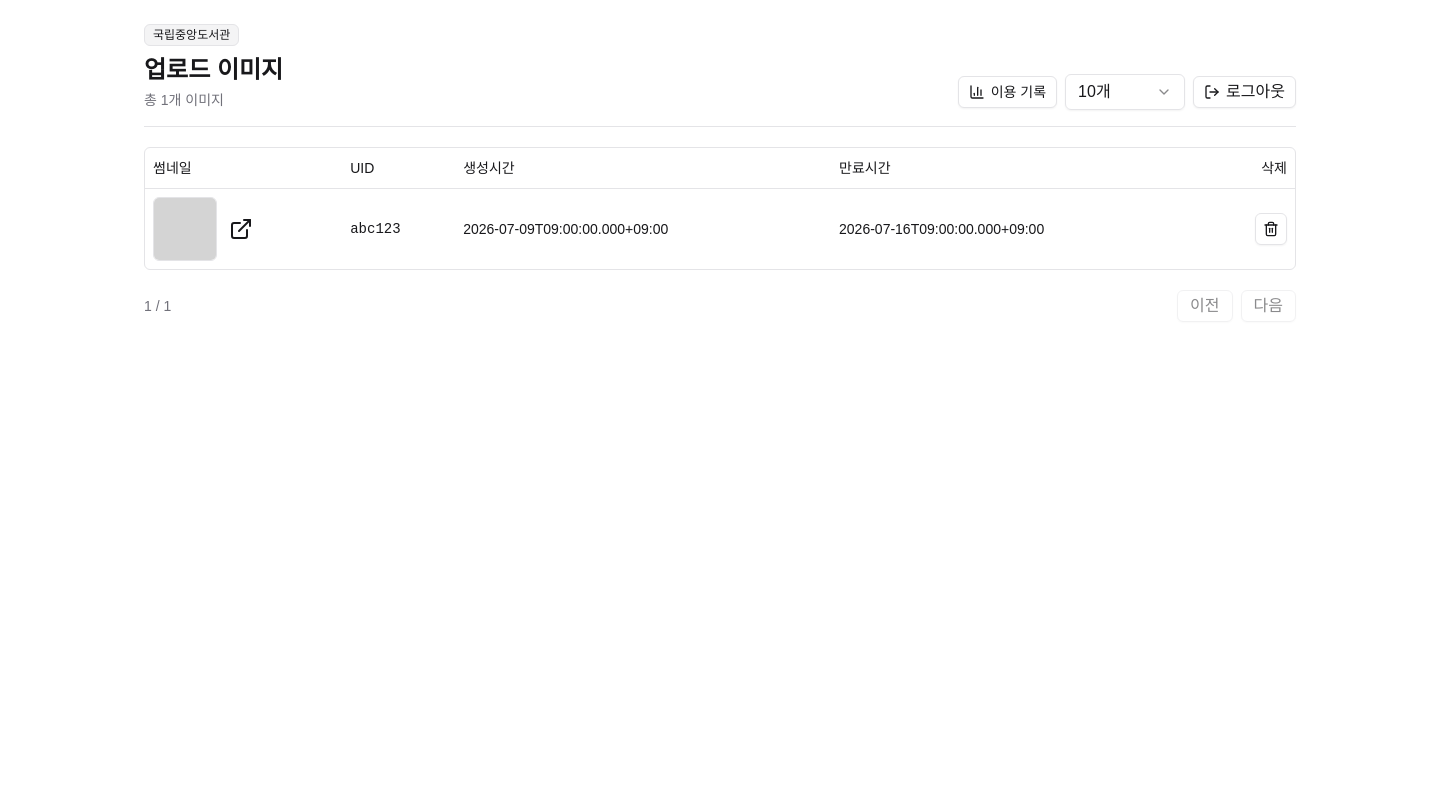
Scenario: ImageList › renders thumbnails uid times and page size control
The width and height of the screenshot is (1440, 810).
Check: the heading "업로드 이미지" is shown, box [144, 54, 283, 86]
Check: the text "총 1개 이미지" is shown, box [144, 92, 224, 108]
Click the button named "abc123 삭제". click: (1271, 228)
box: [1255, 212, 1287, 244]
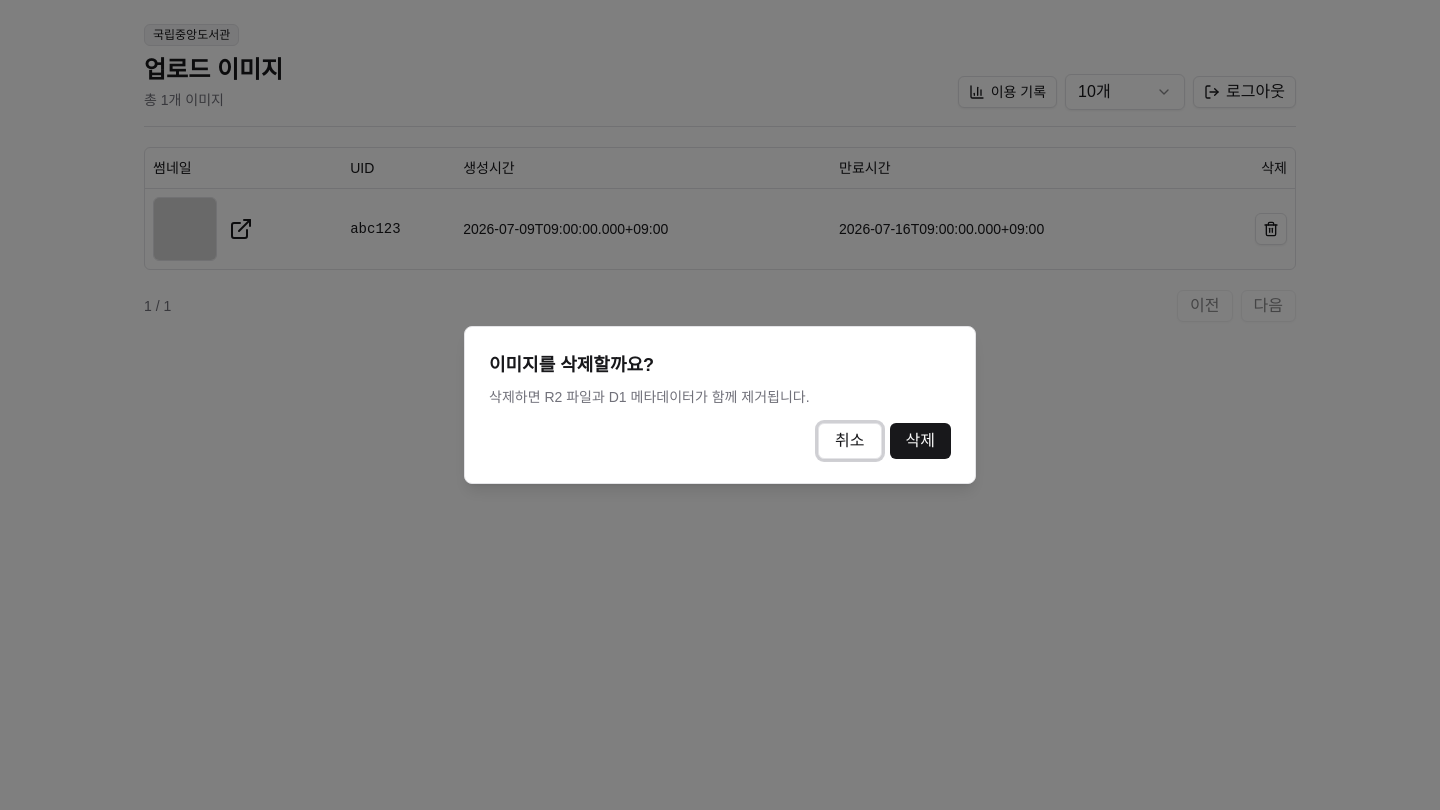
Check: the heading "이미지를 삭제할까요?" is shown, box [489, 355, 654, 375]
